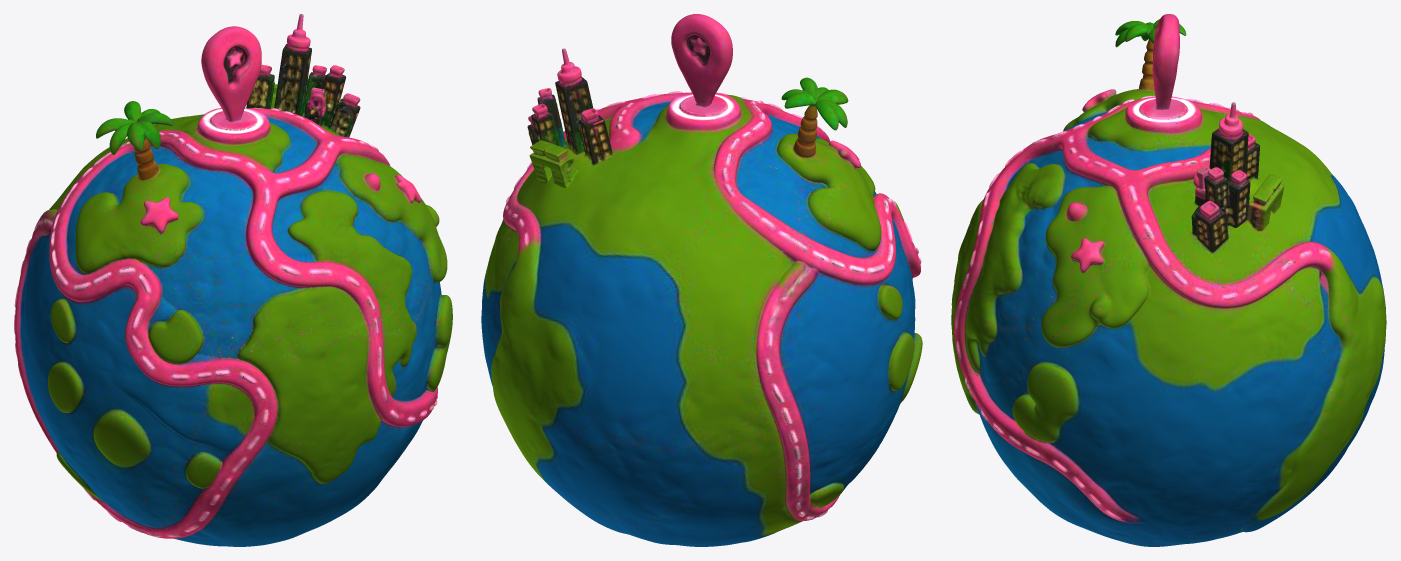
Rendered from zoom_globe.glb.
The picture shows the model from 3 angles, left to right: view 1: azimuth 30°, elevation 25°; view 2: azimuth 150°, elevation 25°; view 3: azimuth 270°, elevation 25°; orthographic projection. The views are drawn at different scales.
Bounding box in the file's own units: 1.48 × 1.9 × 1.46.
Materials: 1 (1 with a texture image).
